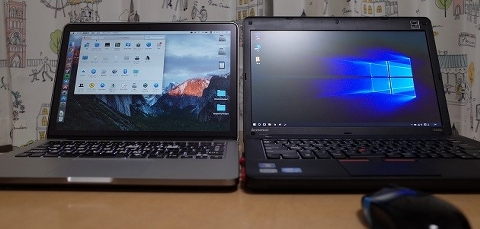pc: (241, 16, 480, 194), (1, 22, 241, 190)
